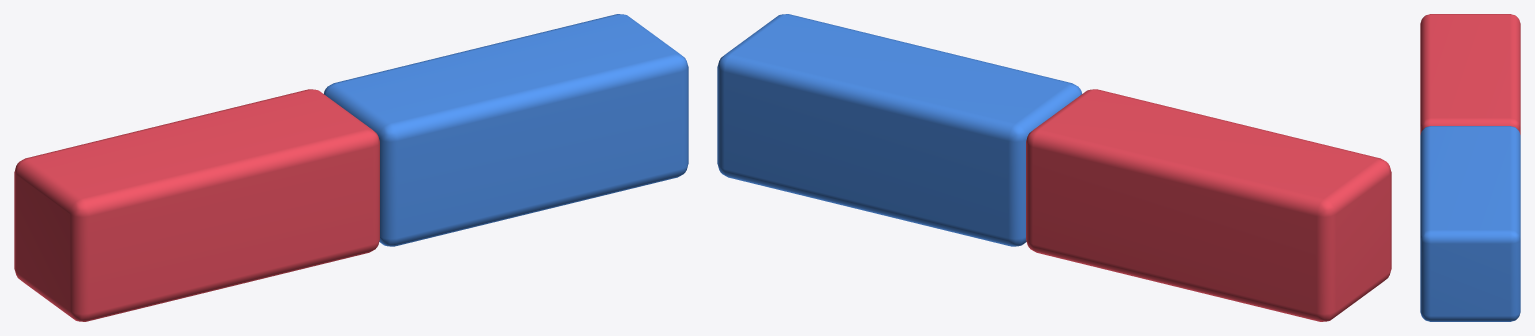
The model's file is bar-magnet-quality.glb.
3 renders of one model, left to right at view 1: azimuth 30°, elevation 25°; view 2: azimuth 150°, elevation 25°; view 3: azimuth 270°, elevation 25°, orthographic. The views are drawn at different scales.
Parts seen in each view (by area): view 1: North; view 2: North; view 3: North.
Part boxes in pixels (x1,y1,x2,y2): North: [14, 14, 688, 321]; North: [717, 14, 1391, 321]; North: [1420, 14, 1520, 321].
Bounding box in the file's own units: 2 × 0.38 × 0.38.
